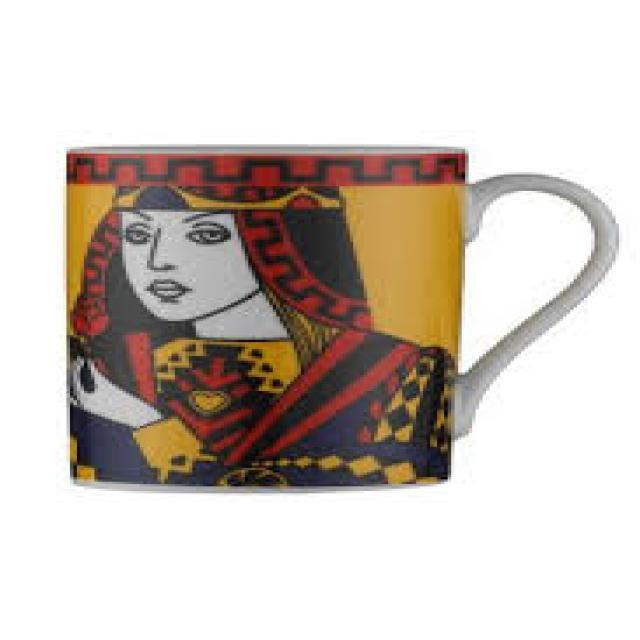taza: (64, 144, 620, 497)
